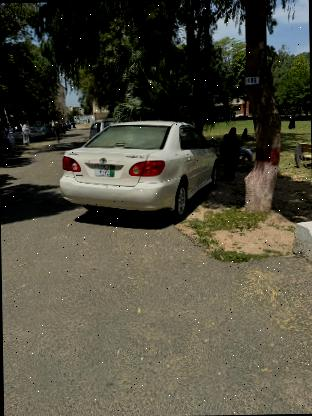car: (50, 111, 223, 225)
tree: (230, 0, 291, 223)
